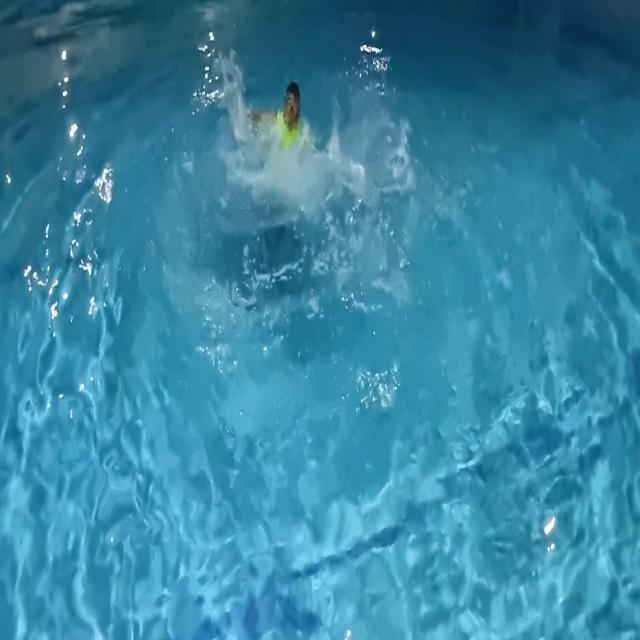Drowning: (198, 46, 361, 232)
